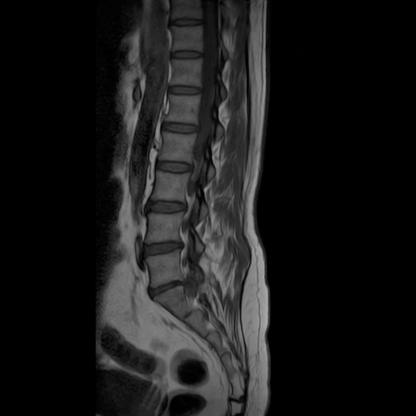Disc Bulgerotation: (142, 239, 185, 259), (148, 279, 185, 296)
